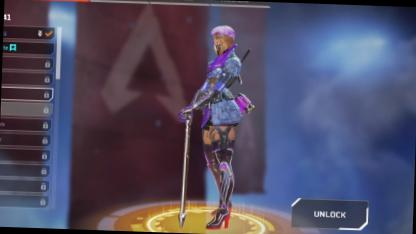Target: (191, 23, 252, 196)
